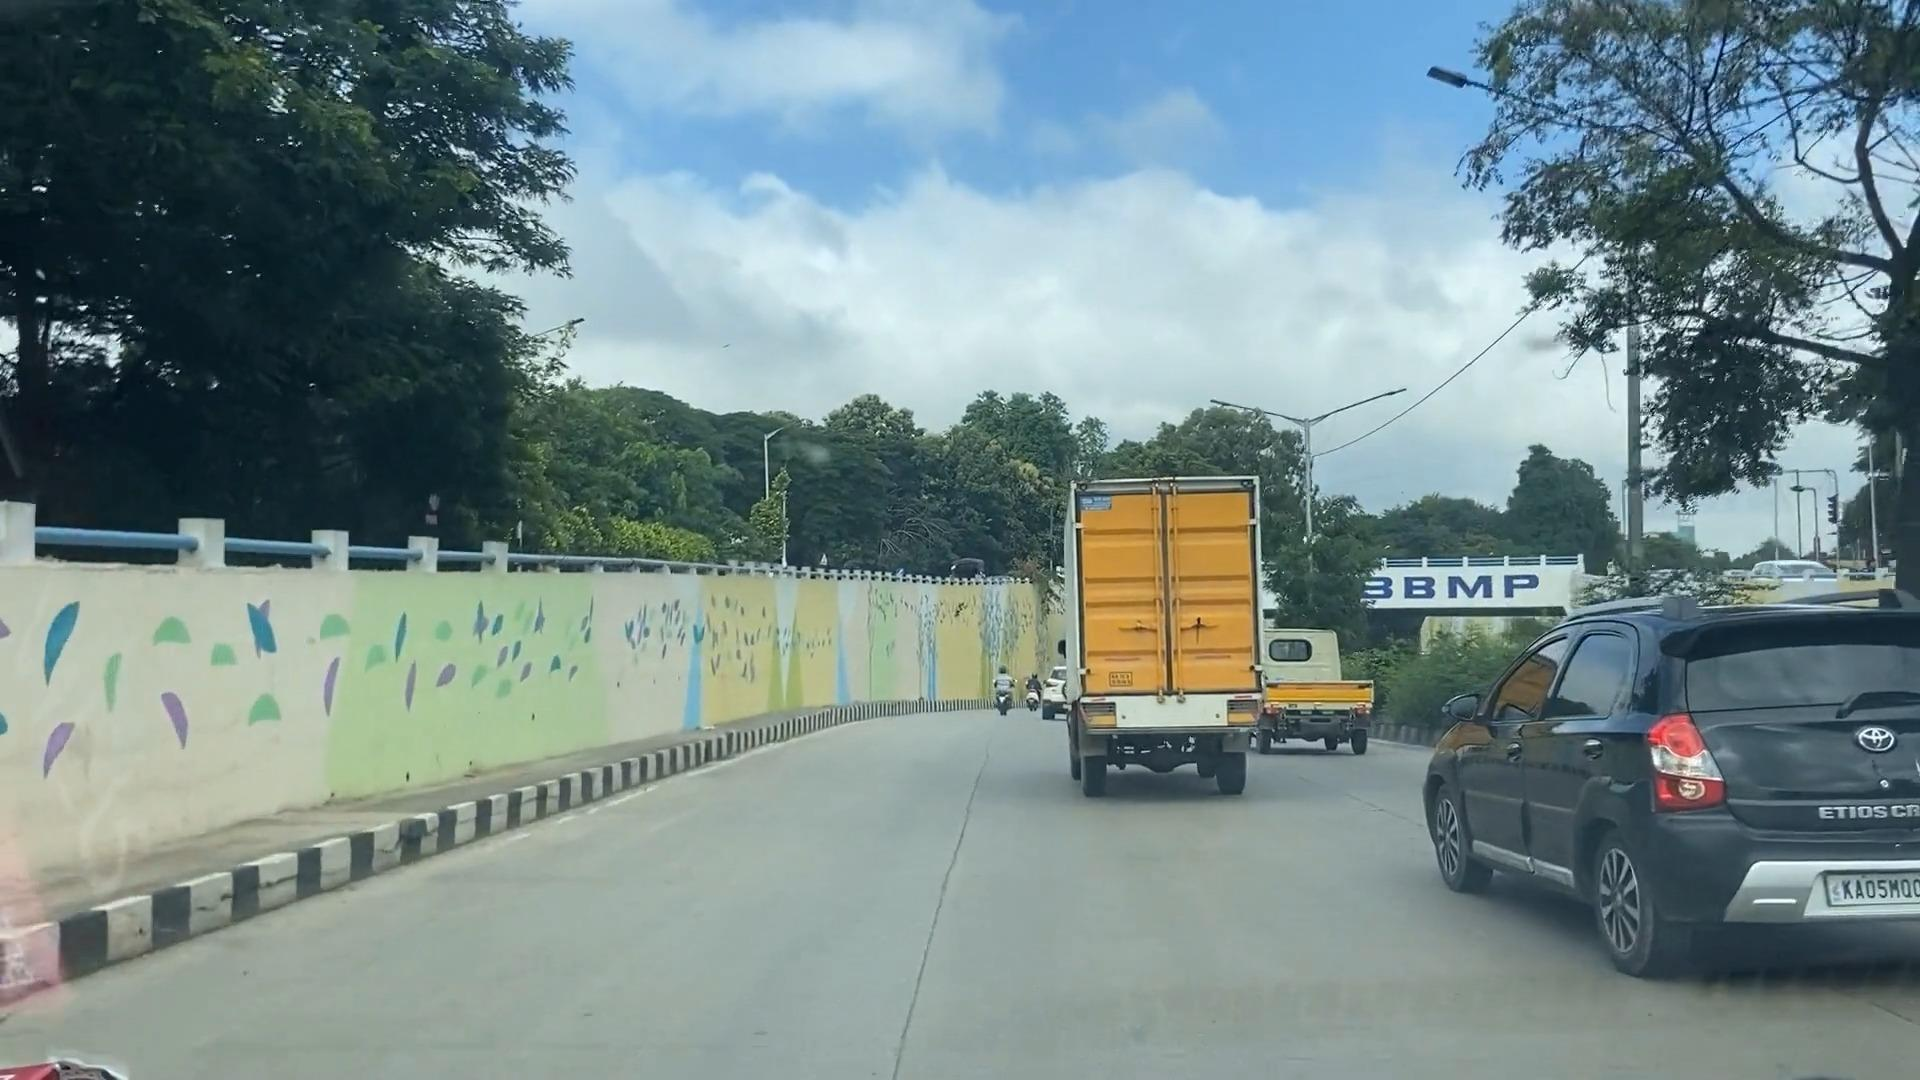HMV: (1076, 485, 1265, 793)
LMV: (1427, 622, 1920, 952)
